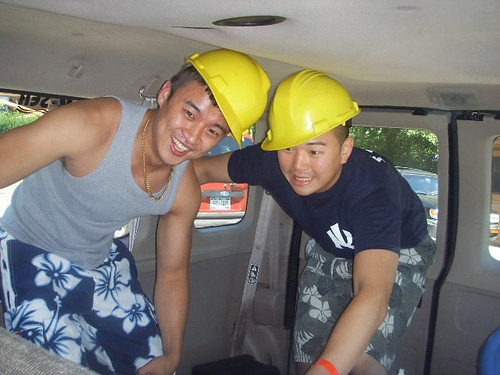person hardhat: (2, 43, 267, 375), (248, 54, 443, 375)
